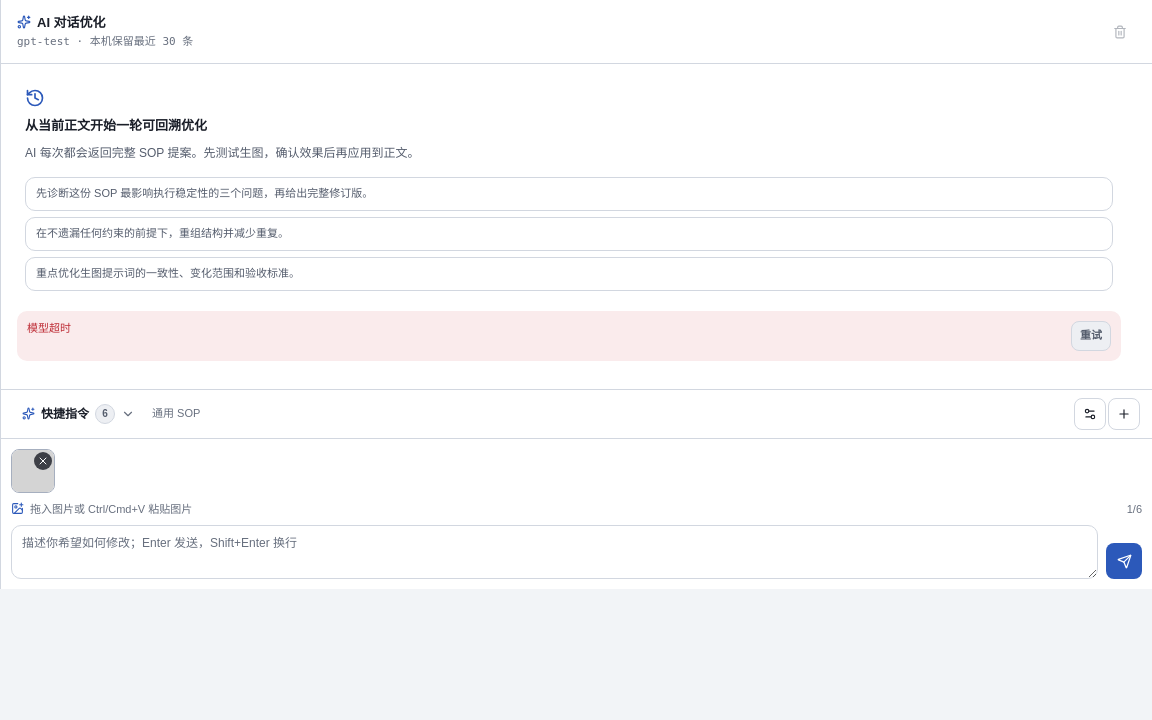
Scenario: SopAiRevisionPanel custom quick instructions › adds pasted images to the pending attachments and sends them with the revision request
Type "根据图片调整风格" into the text box with placeholder "描述你希望如何修改；Enter 发送，Shift+Enter 换行".
click(554, 552); type("根据图片调整风格")  # box [11,525,1098,579]
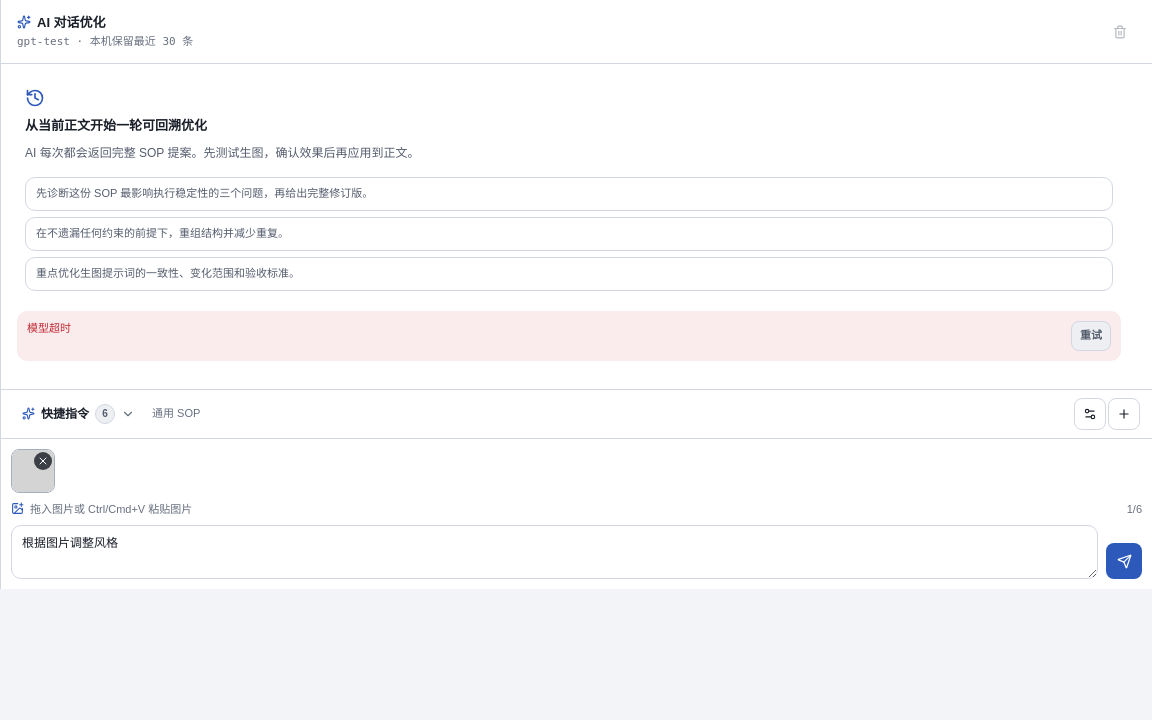
Click the button named "发送 SOP 修改要求".
click(1124, 561)  # box [1106,543,1142,579]
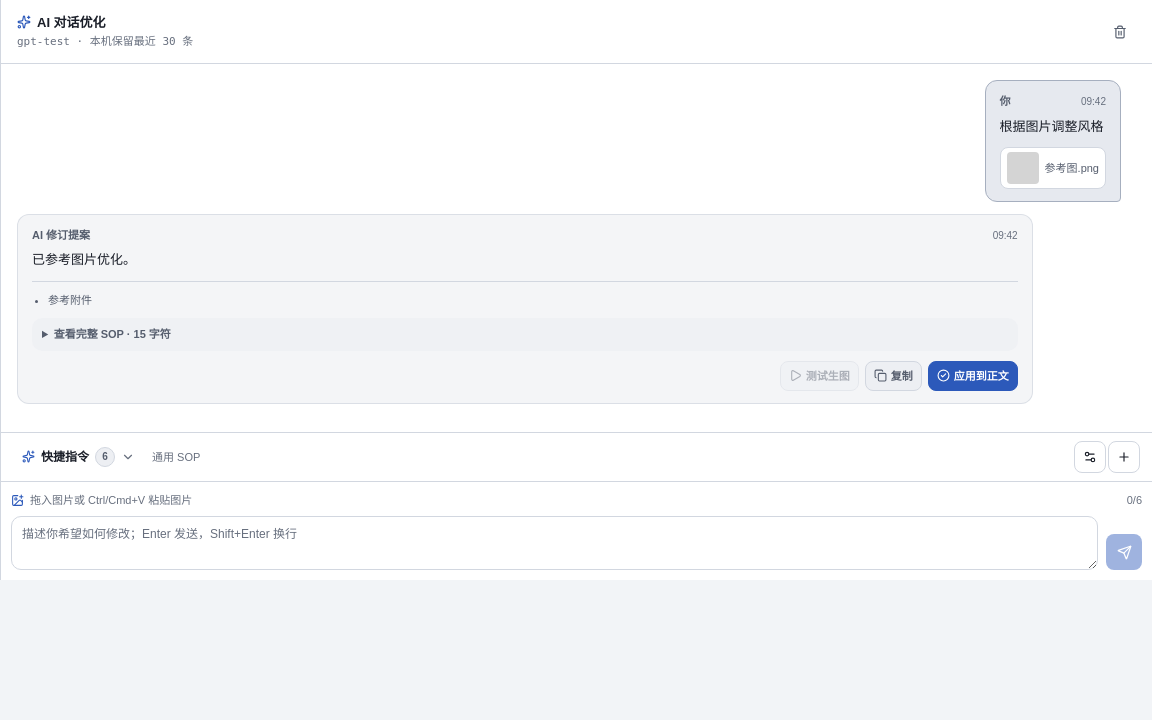
Expected: the element showing "参考图.png" is shown, [1000,147,1106,189]
